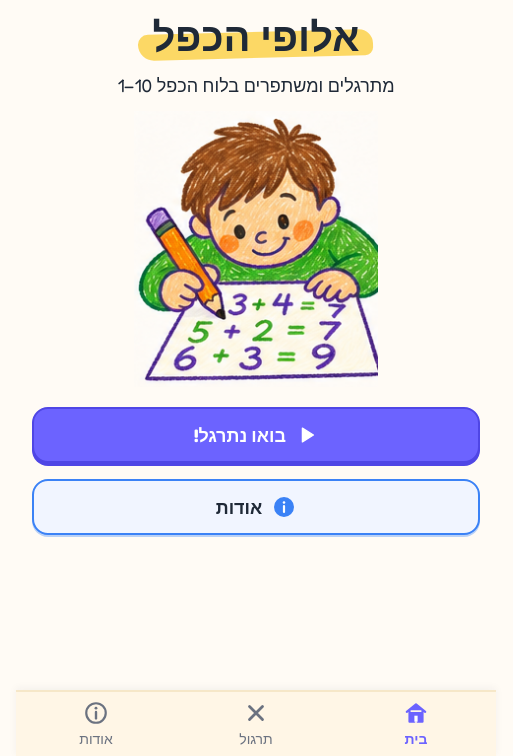
Test: Saving on this device › keeps the end state after a reload
Click the button "תרגול": (256, 724) top-left (176, 692), bottom-right (336, 755)
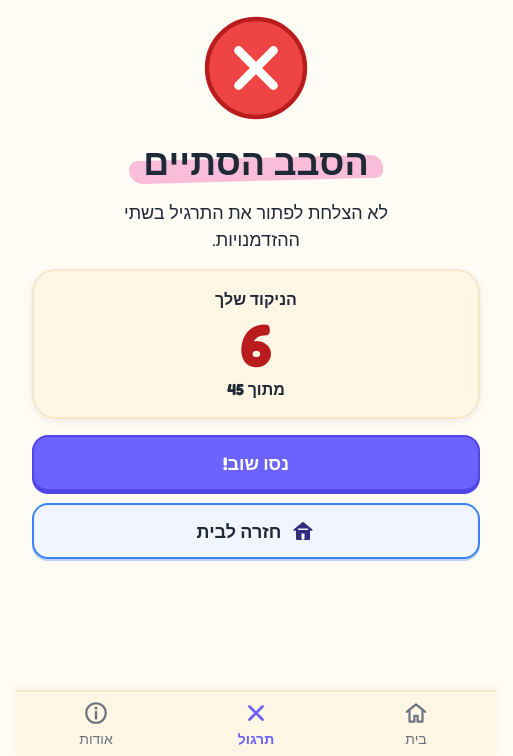
Result: the heading "הסבב הסתיים" is shown at top-left (129, 140), bottom-right (383, 183)
